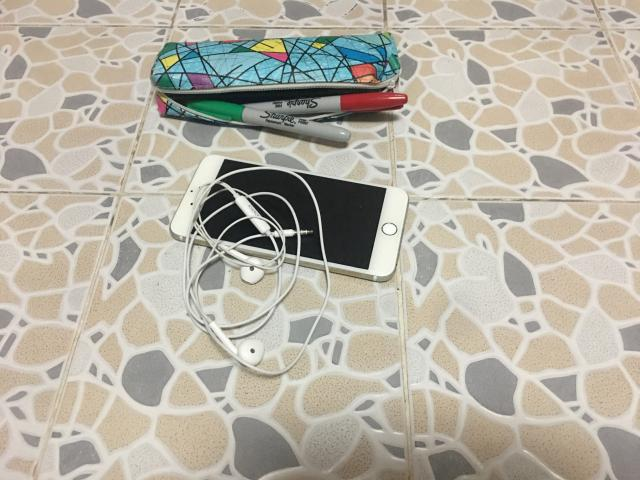Mobile phone: (170, 155, 409, 281)
Pen: (186, 100, 351, 141), (245, 92, 408, 115)
wire: (182, 166, 332, 375)
